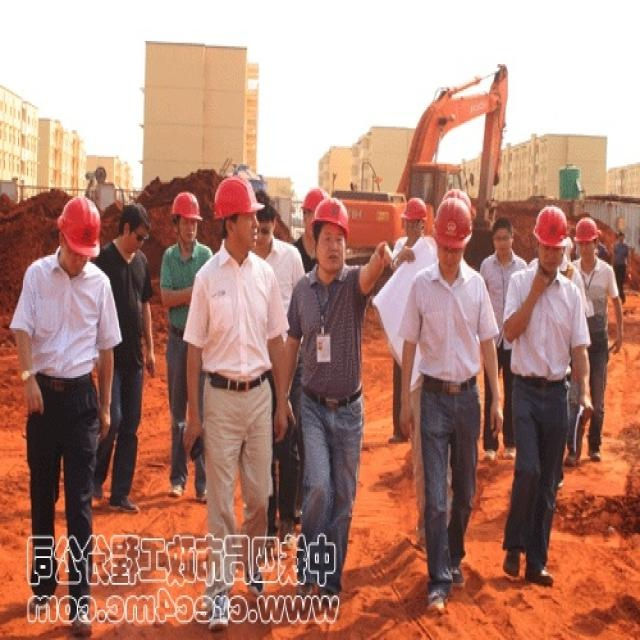Con_Casco: (194, 252, 276, 382), (411, 264, 489, 379)
Sin_Casco_Mascarrilla: (533, 205, 571, 269), (492, 217, 514, 258)
